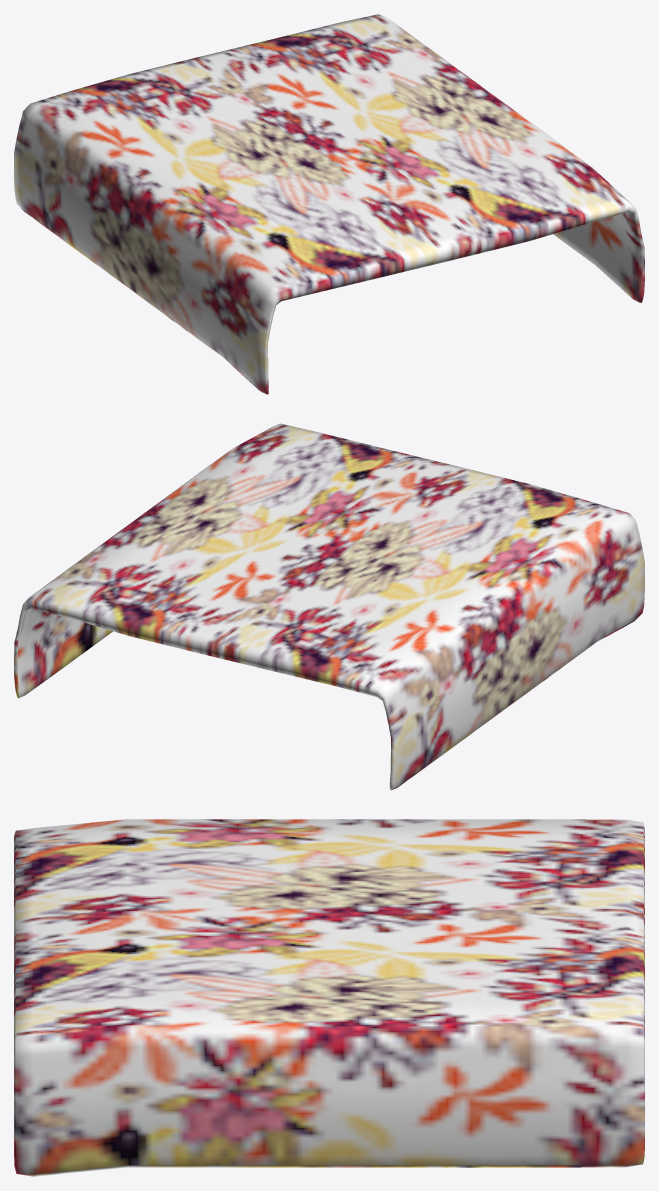
Rendered from boles_ full_panel 2.fbx.
The picture shows the model from 3 angles, top to bottom: view 1: azimuth 30°, elevation 25°; view 2: azimuth 150°, elevation 25°; view 3: azimuth 270°, elevation 25°; orthographic projection. The views are drawn at different scales.
Visible parts, largest first — view 1: boles_ full_panel 2; view 2: boles_ full_panel 2; view 3: boles_ full_panel 2.
Boxes of the visible parts, x1,y1,x2,y2 form: boles_ full_panel 2: [14, 14, 644, 394]; boles_ full_panel 2: [14, 423, 644, 790]; boles_ full_panel 2: [14, 819, 644, 1176].
Size of the model in its own units: 1.83 by 0.5293 by 2.09.
